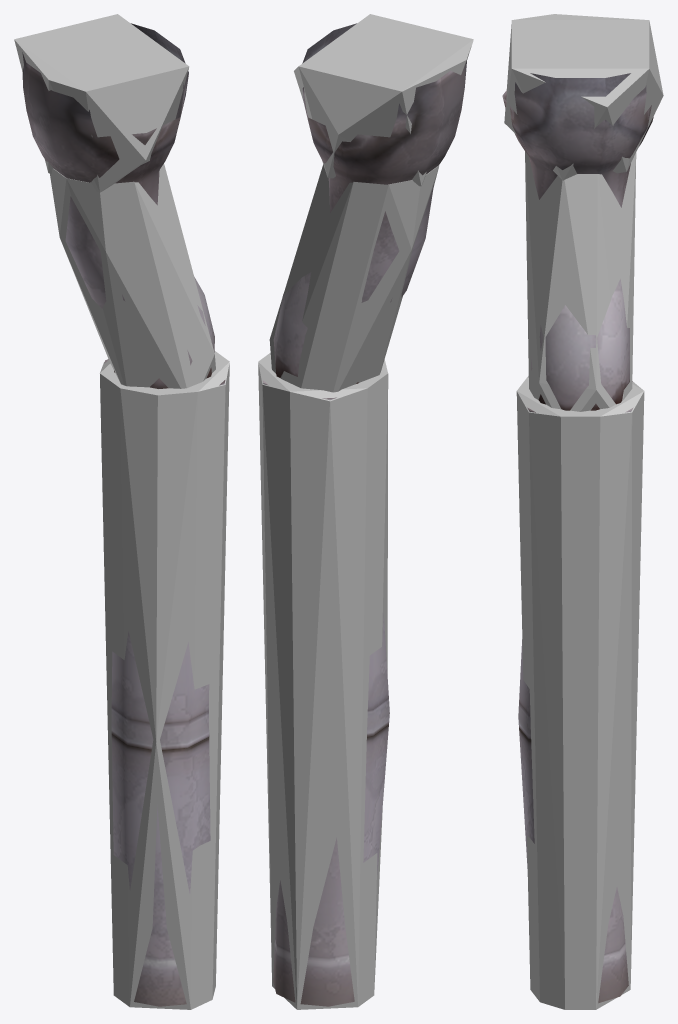
Rendered from SM_PropRoofDrainage01_4.fbx.
3 renders of one model, left to right at view 1: azimuth 30°, elevation 25°; view 2: azimuth 150°, elevation 25°; view 3: azimuth 270°, elevation 25°, orthographic. The views are drawn at different scales.
Visible parts, largest first — view 1: SM_PropRoofDrainage01_4_ConvexHulls, SM_PropRoofDrainage01_4; view 2: SM_PropRoofDrainage01_4_ConvexHulls, SM_PropRoofDrainage01_4; view 3: SM_PropRoofDrainage01_4_ConvexHulls, SM_PropRoofDrainage01_4.
Part boxes in pixels (<box>): SM_PropRoofDrainage01_4_ConvexHulls: <box>14,14,229,1009</box>; SM_PropRoofDrainage01_4: <box>22,23,225,1006</box>; SM_PropRoofDrainage01_4_ConvexHulls: <box>258,14,473,1009</box>; SM_PropRoofDrainage01_4: <box>263,23,467,1006</box>; SM_PropRoofDrainage01_4_ConvexHulls: <box>504,14,663,1009</box>; SM_PropRoofDrainage01_4: <box>502,73,653,1003</box>.
Size of the model in its own units: 33.17 by 26.14 by 164.
Materials: 2 (1 with a texture image).
